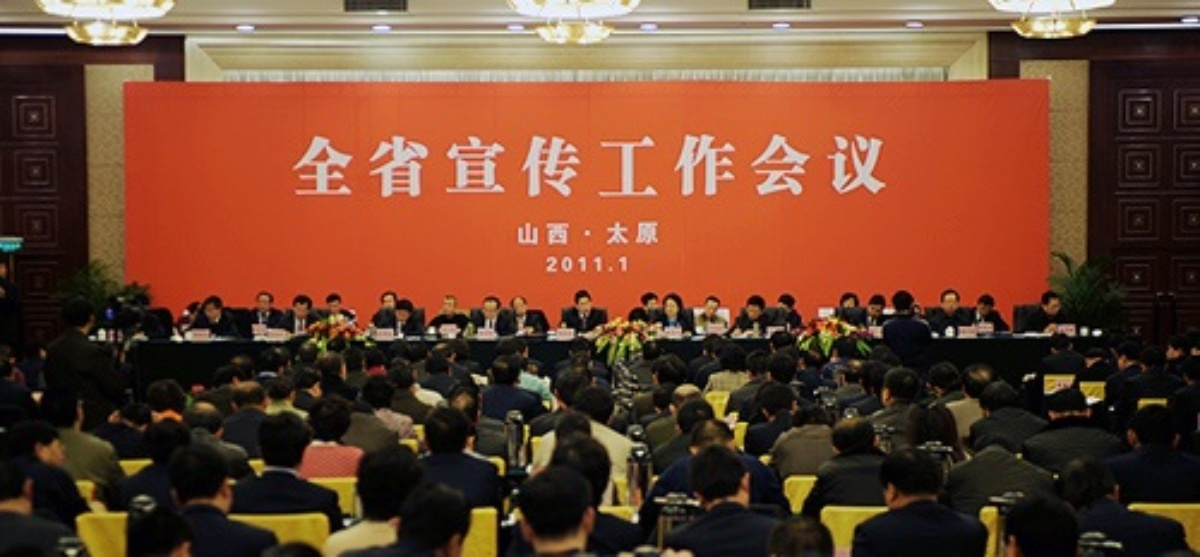text: (289, 133, 304, 202), (305, 133, 320, 202), (321, 133, 336, 202), (337, 133, 352, 202), (353, 133, 368, 202), (369, 133, 384, 202), (385, 133, 400, 202), (401, 133, 416, 202), (417, 133, 432, 202), (433, 133, 448, 202), (449, 133, 464, 202), (465, 133, 480, 202), (481, 133, 496, 202), (497, 133, 512, 202), (513, 133, 528, 202), (529, 133, 544, 202), (545, 133, 560, 202), (561, 133, 576, 202), (577, 133, 592, 202), (593, 133, 608, 202), (609, 133, 624, 202), (625, 133, 640, 202), (641, 133, 656, 202), (657, 133, 672, 202), (673, 133, 688, 202), (689, 133, 704, 202), (705, 133, 720, 202), (721, 133, 736, 202), (737, 133, 752, 202), (753, 133, 768, 202), (769, 133, 784, 202), (785, 133, 800, 202), (801, 133, 816, 202), (817, 133, 832, 202), (833, 133, 848, 202), (849, 133, 864, 202), (865, 133, 880, 202), (881, 133, 893, 202), (529, 221, 544, 248), (545, 221, 560, 248), (561, 221, 576, 248), (577, 221, 592, 248), (593, 221, 608, 248), (609, 221, 624, 248), (625, 221, 640, 248), (641, 221, 656, 248), (514, 221, 528, 248), (545, 253, 560, 277), (561, 253, 576, 277), (577, 253, 592, 277), (593, 253, 608, 277), (609, 253, 624, 277), (625, 253, 634, 277), (657, 221, 661, 248), (543, 253, 544, 277)
